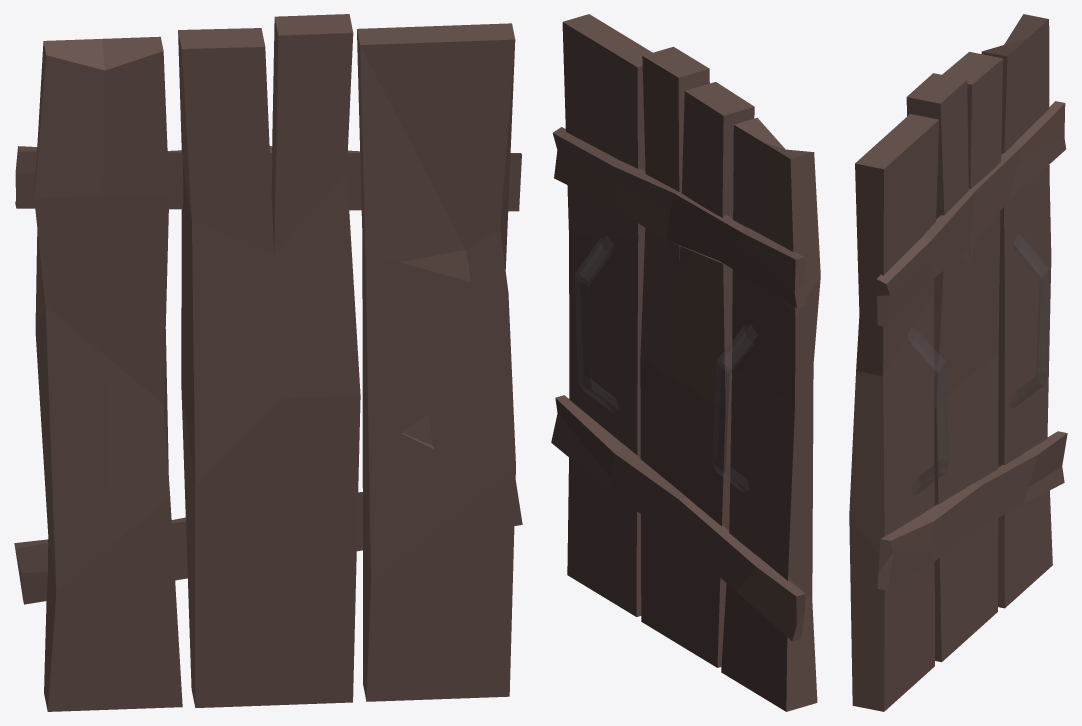
File: shield.fbx
The picture shows the model from 3 angles, left to right: view 1: azimuth 30°, elevation 25°; view 2: azimuth 150°, elevation 25°; view 3: azimuth 270°, elevation 25°; orthographic projection. The views are drawn at different scales.
Parts seen in each view (by area): view 1: Cube, Cube.001, Cube.002, Cube.003, Cube.004; view 2: Cube, Cube.002, Cube.001, Cube.004, Cube.003, Torus, Torus.001; view 3: Cube.001, Cube, Cube.002, Cube.003, Cube.004, Torus, Torus.001.
Part boxes in pixels (x1,y1,x2,y2): Cube: [178, 14, 360, 707]; Cube.001: [357, 23, 515, 701]; Cube.002: [34, 36, 182, 711]; Cube.003: [15, 146, 521, 211]; Cube.004: [14, 480, 522, 604]; Cube: [640, 46, 754, 667]; Cube.002: [721, 117, 820, 711]; Cube.001: [562, 14, 652, 616]; Cube.004: [551, 395, 805, 641]; Cube.003: [552, 127, 807, 308]; Torus: [575, 235, 618, 411]; Torus.001: [712, 325, 756, 491]; Cube.001: [849, 114, 939, 711]; Cube: [906, 52, 1003, 662]; Cube.002: [981, 14, 1052, 608]; Cube.003: [876, 101, 1065, 327]; Cube.004: [877, 431, 1067, 590]; Torus: [907, 328, 948, 494]; Torus.001: [1009, 234, 1050, 407].
Bounding box in the file's own units: 128 × 203 × 71.9.
